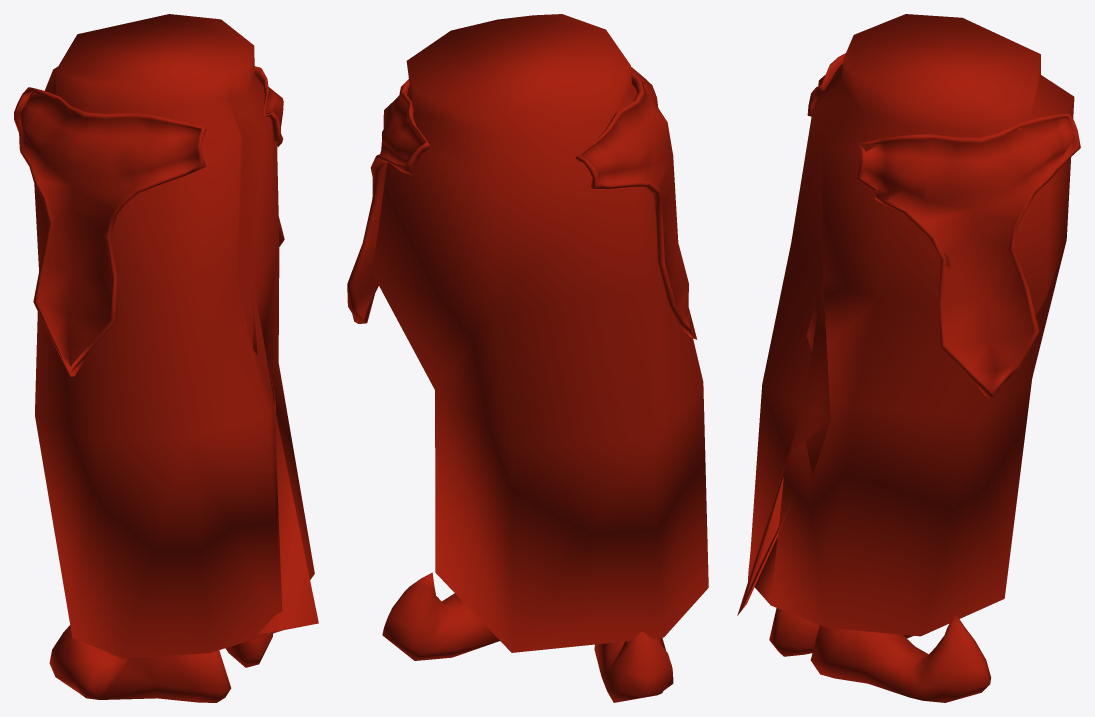
The model's file is bot_000091.obj.
The picture shows the model from 3 angles, left to right: view 1: azimuth 30°, elevation 25°; view 2: azimuth 150°, elevation 25°; view 3: azimuth 270°, elevation 25°; orthographic projection. The views are drawn at different scales.
Visible parts, largest first — view 1: LowPoly_Warlock.004_Plane.004; view 2: LowPoly_Warlock.004_Plane.004; view 3: LowPoly_Warlock.004_Plane.004.
Part boxes in pixels (bbox=[...]): LowPoly_Warlock.004_Plane.004: bbox=[14, 14, 318, 702]; LowPoly_Warlock.004_Plane.004: bbox=[347, 14, 708, 702]; LowPoly_Warlock.004_Plane.004: bbox=[737, 14, 1080, 702].
Size of the model in its own units: 0.5174 by 1.11 by 0.5591.
